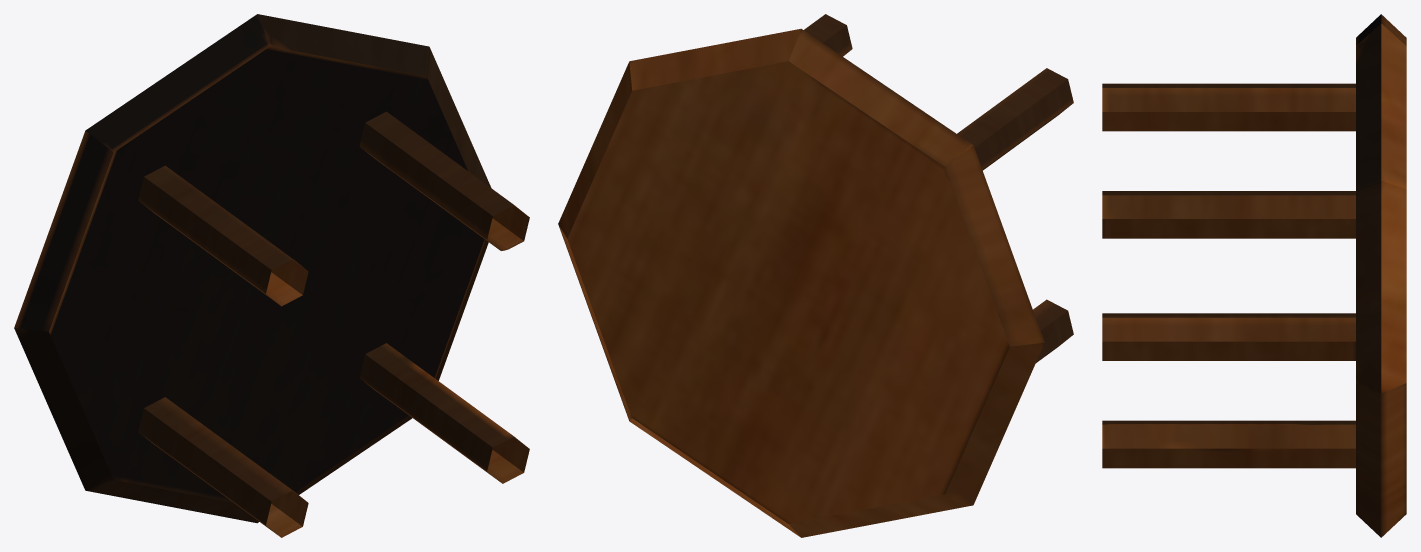
File: stool.dae
The picture shows the model from 3 angles, left to right: view 1: azimuth 30°, elevation 25°; view 2: azimuth 150°, elevation 25°; view 3: azimuth 270°, elevation 25°; orthographic projection.
Visible parts, largest first — view 1: Circle; view 2: Circle; view 3: Circle.
Boxes of the visible parts, x1=… form: Circle: x1=14, y1=14, x2=529, y2=537; Circle: x1=558, y1=14, x2=1073, y2=537; Circle: x1=1102, y1=14, x2=1406, y2=537.
Size of the model in its own units: 1.1 by 0.6 by 1.1.
Materials: 1 (1 with a texture image).
